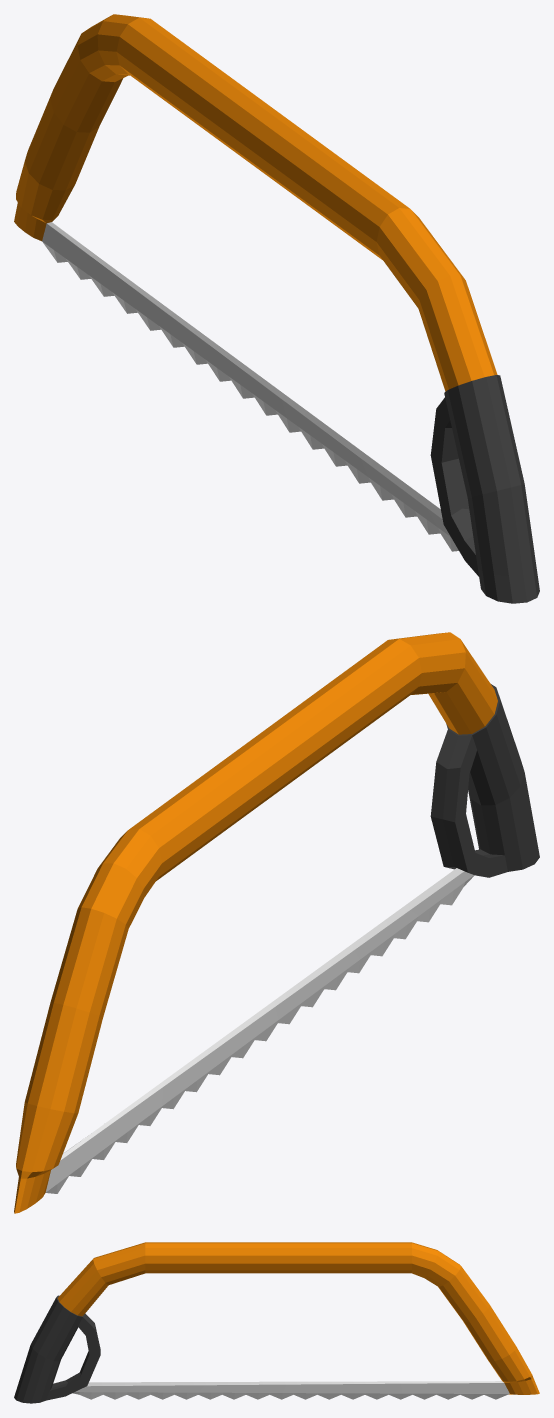
Rendered from G3_Prop_Serra_2.fbx.
3 renders of one model, top to bottom at view 1: azimuth 30°, elevation 25°; view 2: azimuth 150°, elevation 25°; view 3: azimuth 270°, elevation 25°, orthographic. The views are drawn at different scales.
Parts seen in each view (by area): view 1: Cylinder.016; view 2: Cylinder.016; view 3: Cylinder.016.
Boxes of the visible parts, x1,y1,x2,y2 form: Cylinder.016: [14, 14, 539, 603]; Cylinder.016: [14, 632, 539, 1213]; Cylinder.016: [14, 1242, 539, 1403].
Bounding box in the file's own units: 178 × 1066 × 3247.
